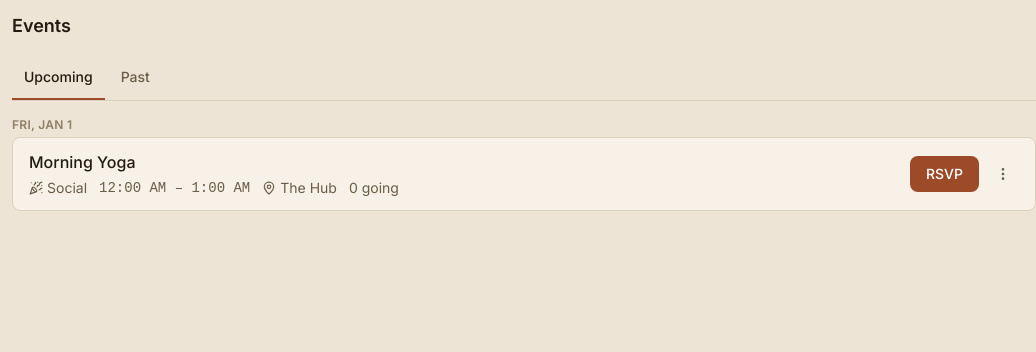
Test: EventsSection › shows an error and signs out when duplicating an event fails with an expired session (401)
Click the button named "Event actions". click: (1003, 174)
box: [987,158,1019,190]
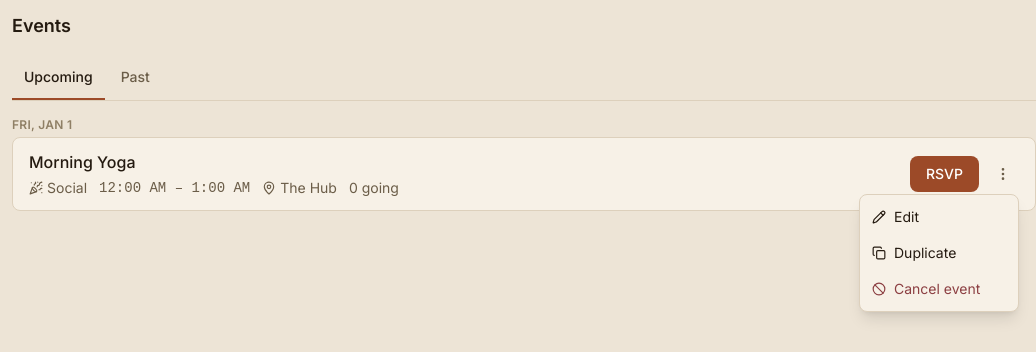
Click the button "Duplicate". click: (939, 253)
box: [860,235,1018,271]
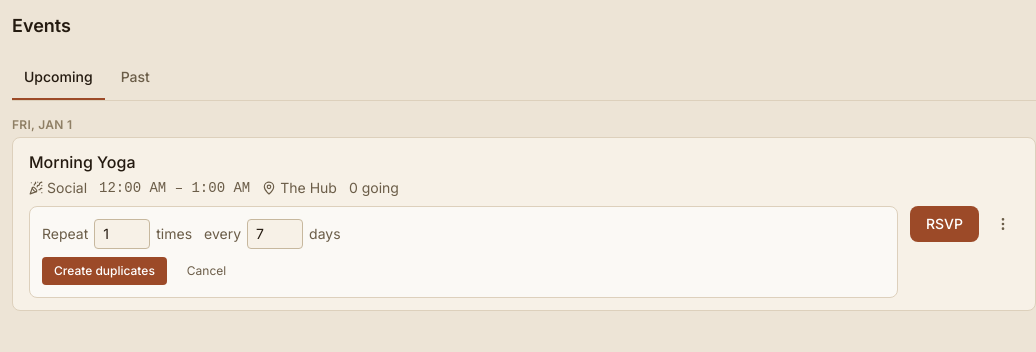
Click the button "Create duplicates". click: (104, 271)
box: [42,257,167,285]
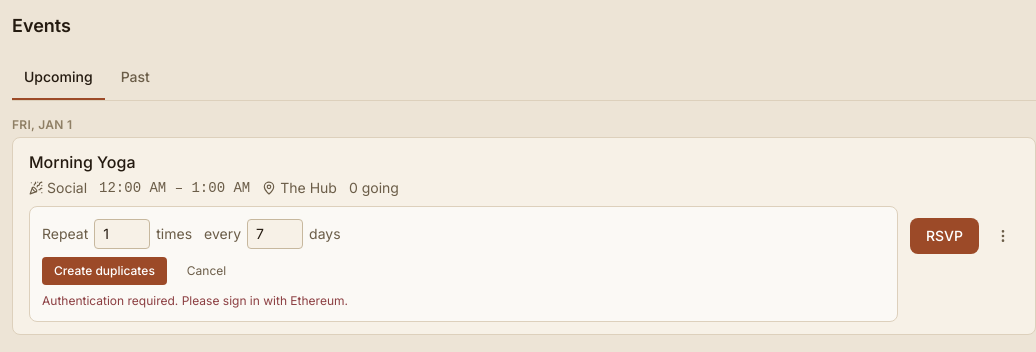
Result: the text "Authentication required. Please sign in with Ethereum." is shown at [42,293,348,308]
